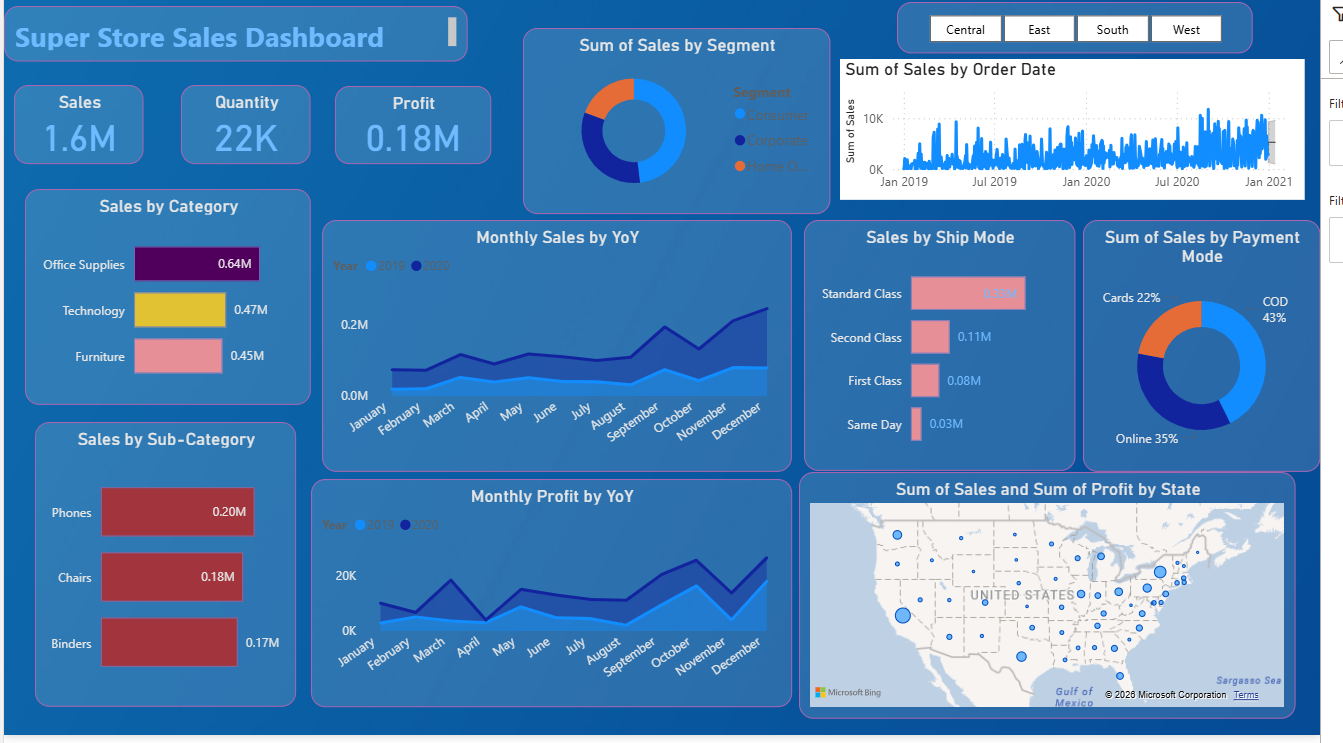

The page's visual inventory and layout, read from the dashboard file:
{"tool":"powerbi","page":{"name":"Page 1","canvas":[1280,720],"ordinal":0},"visuals":[{"type":"clusteredBarChart","title":" Sales by Category","fields":{"Category":["SuperStore_Sales_Dataset.Category"],"Y":["Sum(SuperStore_Sales_Dataset.Sales)"]},"box":[20.4,188.7,278.2,210.1],"z":0},{"type":"clusteredBarChart","title":" Sales by Sub-Category","fields":{"Category":["SuperStore_Sales_Dataset.Sub-Category"],"Y":["Sum(SuperStore_Sales_Dataset.Sales)"]},"box":[30.2,415.3,253.9,277.2],"z":1000},{"type":"clusteredBarChart","title":" Sales by Ship Mode","fields":{"Category":["SuperStore_Sales_Dataset.Ship Mode"],"Y":["Sum(SuperStore_Sales_Dataset.Sales)"]},"box":[778.1,218.8,263.6,244.1],"z":2000},{"type":"stackedAreaChart","title":"Monthly Sales by YoY","fields":{"Y":["Sum(SuperStore_Sales_Dataset.Sales)"],"Category":["SuperStore_Sales_Dataset.Order Date.Variation.Date Hierarchy.Month","SuperStore_Sales_Dataset.Order Date.Variation.Date Hierarchy.Day"],"Series":["SuperStore_Sales_Dataset.Order Date.Variation.Date Hierarchy.Year"]},"box":[309.3,218.8,457.1,245.1],"z":3000},{"type":"stackedAreaChart","title":"Monthly Profit by YoY","fields":{"Category":["SuperStore_Sales_Dataset.Order Date.Variation.Date Hierarchy.Month","SuperStore_Sales_Dataset.Order Date.Variation.Date Hierarchy.Day"],"Series":["SuperStore_Sales_Dataset.Order Date.Variation.Date Hierarchy.Year"],"Y":["Sum(SuperStore_Sales_Dataset.Profit)"]},"box":[298.6,470.8,467.8,221.8],"z":4000},{"type":"map","fields":{"Category":["SuperStore_Sales_Dataset.State"],"Size":["Sum(SuperStore_Sales_Dataset.Sales)"]},"box":[773.3,464,483.4,240.2],"z":5000},{"type":"donutChart","fields":{"Category":["SuperStore_Sales_Dataset.Segment"],"Y":["Sum(SuperStore_Sales_Dataset.Sales)"]},"box":[504.8,32.1,298.6,180.9],"z":6000},{"type":"donutChart","fields":{"Y":["Sum(SuperStore_Sales_Dataset.Sales)"],"Category":["SuperStore_Sales_Dataset.Payment Mode"]},"box":[1049.5,218.8,230.5,245.1],"z":7000},{"type":"slicer","fields":{"Values":["SuperStore_Sales_Dataset.Region"]},"box":[868.6,6.8,346.3,49.6],"z":8000},{"type":"textbox","box":[0,10.7,451.3,54.5],"z":9000},{"type":"card","title":"Sales","fields":{"Values":["Sum(SuperStore_Sales_Dataset.Sales)"]},"box":[9.7,87.5,126.4,76.8],"z":10000},{"type":"card","title":"Quantity","fields":{"Values":["Sum(SuperStore_Sales_Dataset.Quantity)"]},"box":[172.2,87.5,126.4,76.8],"z":11000},{"type":"card","title":"Profit","fields":{"Values":["Sum(SuperStore_Sales_Dataset.Profit)"]},"box":[321.9,88.5,151.7,75.9],"z":12000},{"type":"lineChart","fields":{"Y":["Sum(SuperStore_Sales_Dataset.Sales)"],"Category":["SuperStore_Sales_Dataset.Order Date"]},"box":[813.1,62.2,452.3,137.1],"z":13000}]}

Visuals, with their boxes in screenshot pixels (x1, y1, x2, y2), scaled from the page's 1280x720 canvas onto the 1343x743 screenshot:
" Sales by Category" clusteredBarChart: BBox(21, 195, 313, 412)
" Sales by Sub-Category" clusteredBarChart: BBox(32, 429, 298, 715)
" Sales by Ship Mode" clusteredBarChart: BBox(816, 226, 1093, 478)
"Monthly Sales by YoY" stackedAreaChart: BBox(325, 226, 804, 479)
"Monthly Profit by YoY" stackedAreaChart: BBox(313, 486, 804, 715)
map - SuperStore_Sales_Dataset.State x Sum(SuperStore_Sales_Dataset.Sales): BBox(811, 479, 1319, 727)
donutChart - SuperStore_Sales_Dataset.Segment x Sum(SuperStore_Sales_Dataset.Sales): BBox(530, 33, 843, 220)
donutChart - Sum(SuperStore_Sales_Dataset.Sales) x SuperStore_Sales_Dataset.Payment Mode: BBox(1101, 226, 1342, 479)
slicer - SuperStore_Sales_Dataset.Region: BBox(911, 7, 1275, 58)
textbox: BBox(0, 11, 474, 67)
"Sales" card: BBox(10, 90, 143, 170)
"Quantity" card: BBox(181, 90, 313, 170)
"Profit" card: BBox(338, 91, 497, 170)
lineChart - Sum(SuperStore_Sales_Dataset.Sales) x SuperStore_Sales_Dataset.Order Date: BBox(853, 64, 1328, 206)
